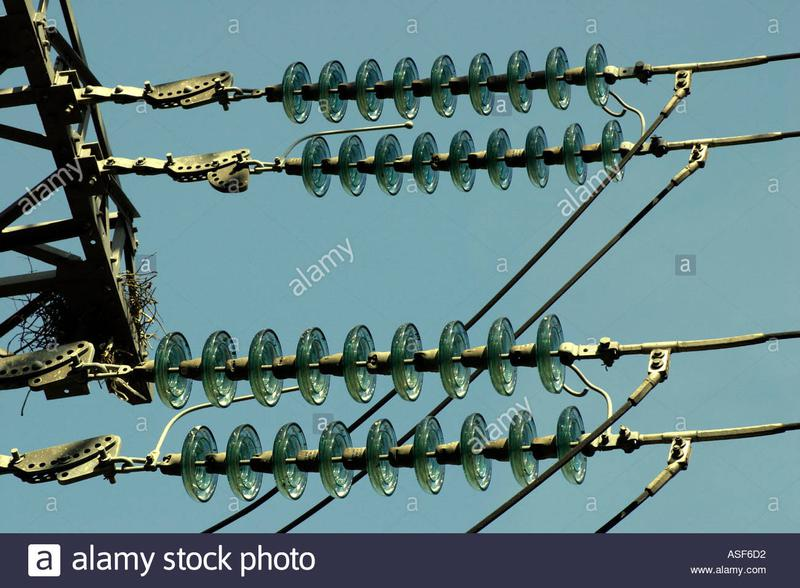isolator: (152, 311, 588, 503), (280, 42, 628, 199)
